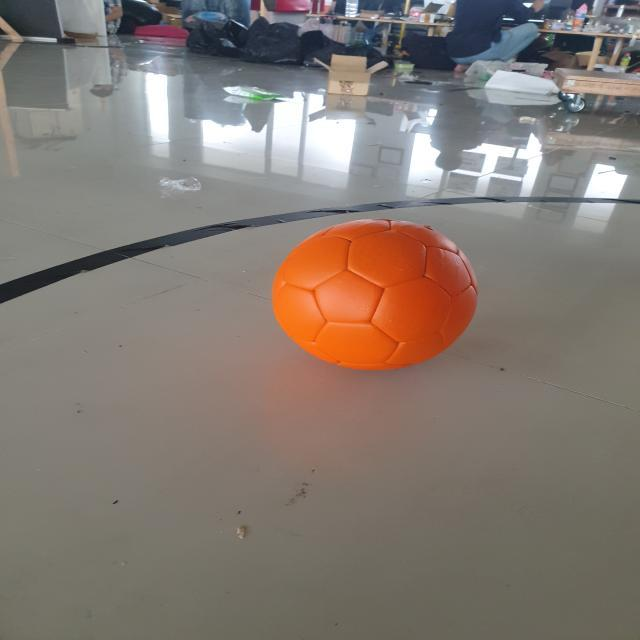bola: (270, 213, 480, 387)
